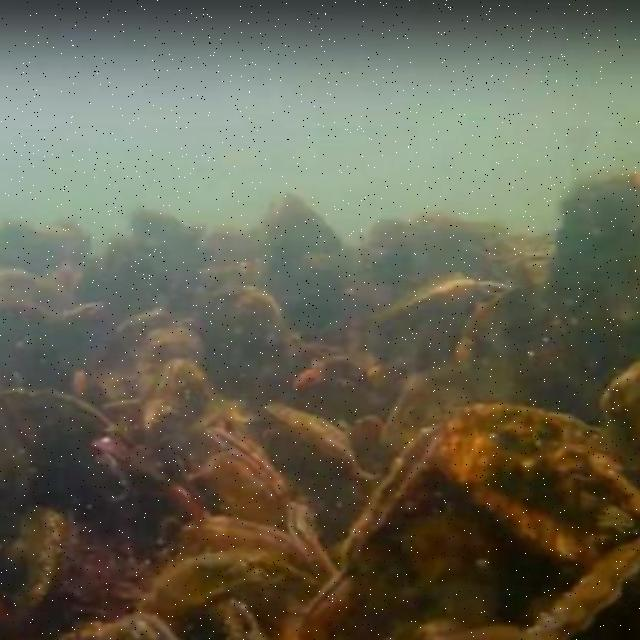Oyster-Closed: (552, 167, 640, 351), (0, 386, 131, 504), (137, 561, 316, 640), (459, 272, 552, 410), (527, 541, 640, 640), (370, 280, 515, 354), (263, 399, 374, 486), (0, 502, 64, 638), (261, 184, 339, 289), (211, 287, 283, 399), (179, 511, 318, 566), (194, 447, 285, 524), (274, 486, 339, 587), (600, 359, 640, 477), (146, 355, 213, 421), (64, 616, 172, 640)
Oyster-Open: (346, 405, 637, 640)
